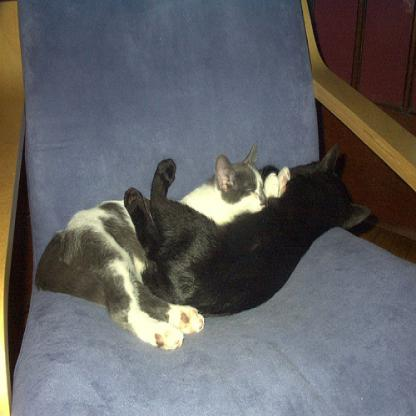cat: (35, 139, 290, 350), (122, 144, 370, 315)
chair: (0, 0, 415, 415)
